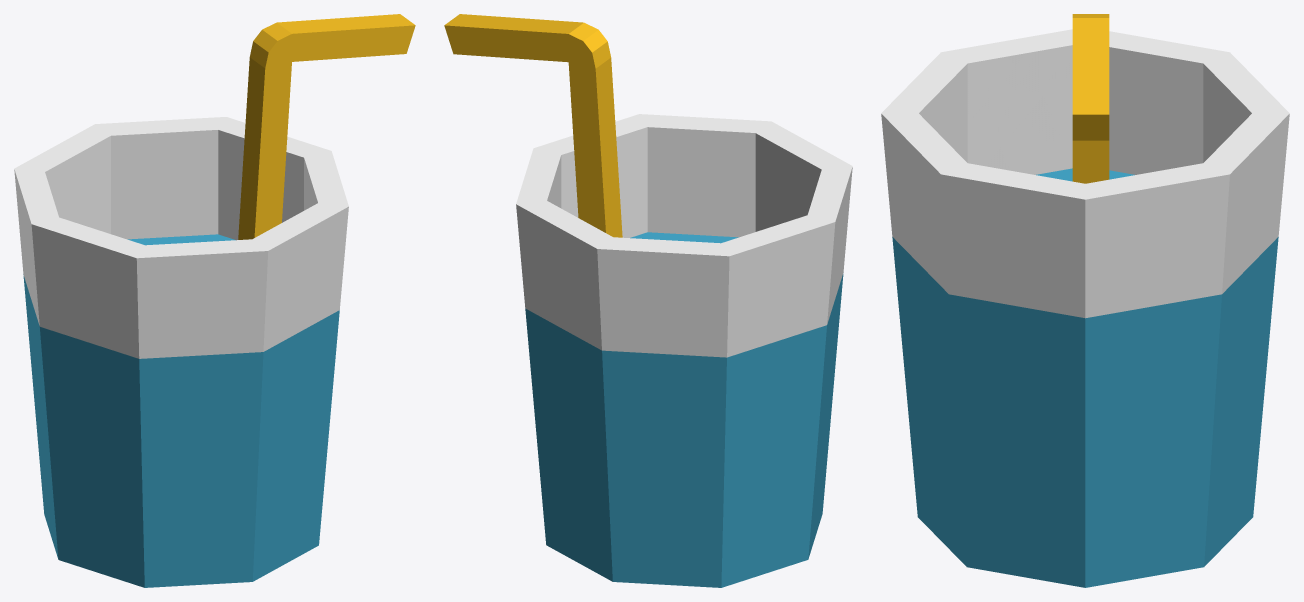
File: Glass.fbx
3 views of the same model, side by side, from view 1: azimuth 30°, elevation 25°; view 2: azimuth 150°, elevation 25°; view 3: azimuth 270°, elevation 25° (orthographic). The views are drawn at different scales.
Parts seen in each view (by area): view 1: Glass; view 2: Glass; view 3: Glass.
Part boxes in pixels (box(x1,y1,x2,y2)): Glass: box(14, 14, 415, 587); Glass: box(444, 14, 852, 587); Glass: box(881, 14, 1289, 587).
Size of the model in its own units: 0.2168 by 0.2594 by 0.1718.
